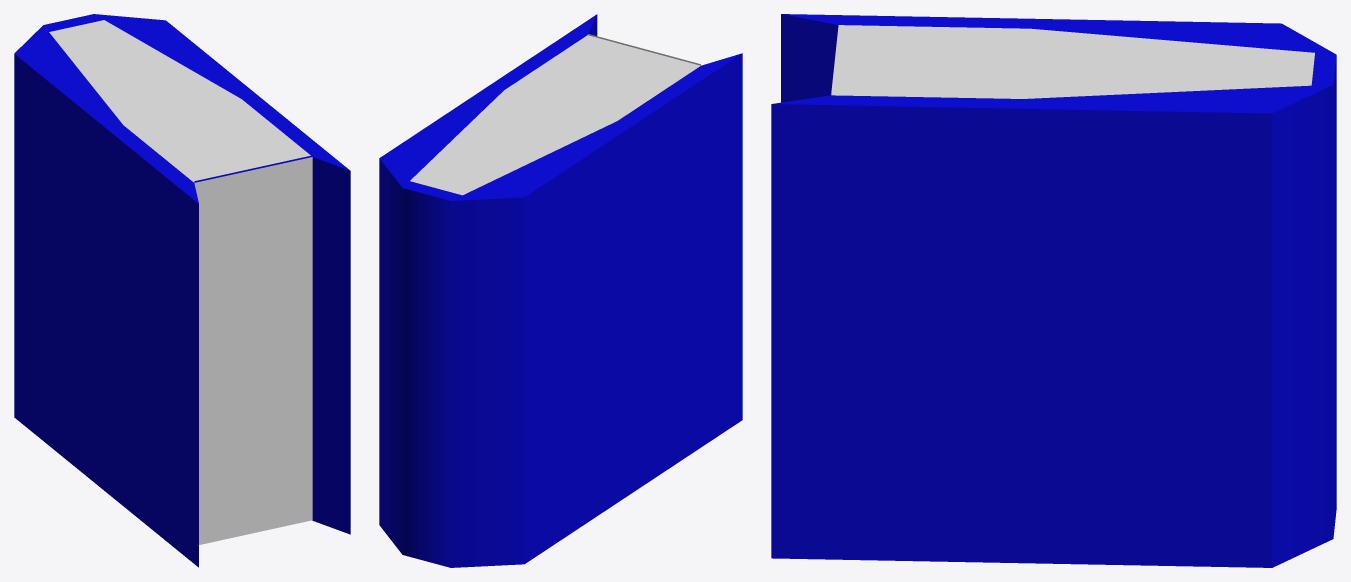
Rendered from Book(Blue).fbx.
The picture shows the model from 3 angles, left to right: view 1: azimuth 30°, elevation 25°; view 2: azimuth 150°, elevation 25°; view 3: azimuth 270°, elevation 25°; orthographic projection. The views are drawn at different scales.
Parts seen in each view (by area): view 1: Book_Blue; view 2: Book_Blue; view 3: Book_Blue.
Part boxes in pixels (bbox=[...]): Book_Blue: bbox=[14, 14, 350, 567]; Book_Blue: bbox=[379, 14, 742, 567]; Book_Blue: bbox=[771, 14, 1336, 567].
Bounding box in the file's own units: 0.1932 × 0.4128 × 0.4635.
